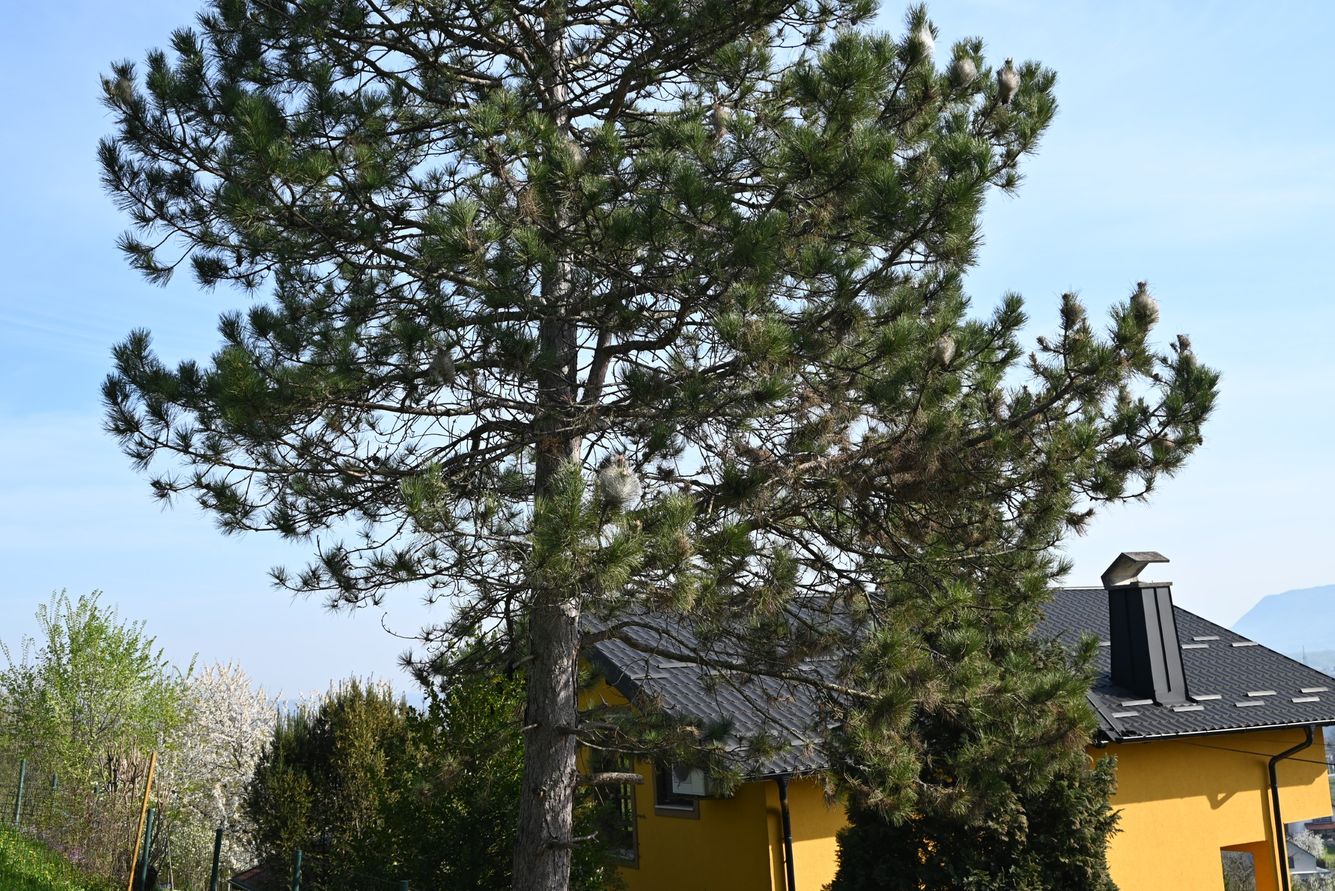thaumatopoea pityocampa jajno gnijezdo: (594, 452, 640, 507), (905, 18, 939, 65), (952, 52, 982, 89), (997, 64, 1025, 102), (556, 135, 587, 168), (1133, 288, 1160, 322), (708, 104, 735, 132), (937, 336, 958, 364), (1175, 335, 1195, 360), (0, 686, 10, 698)
